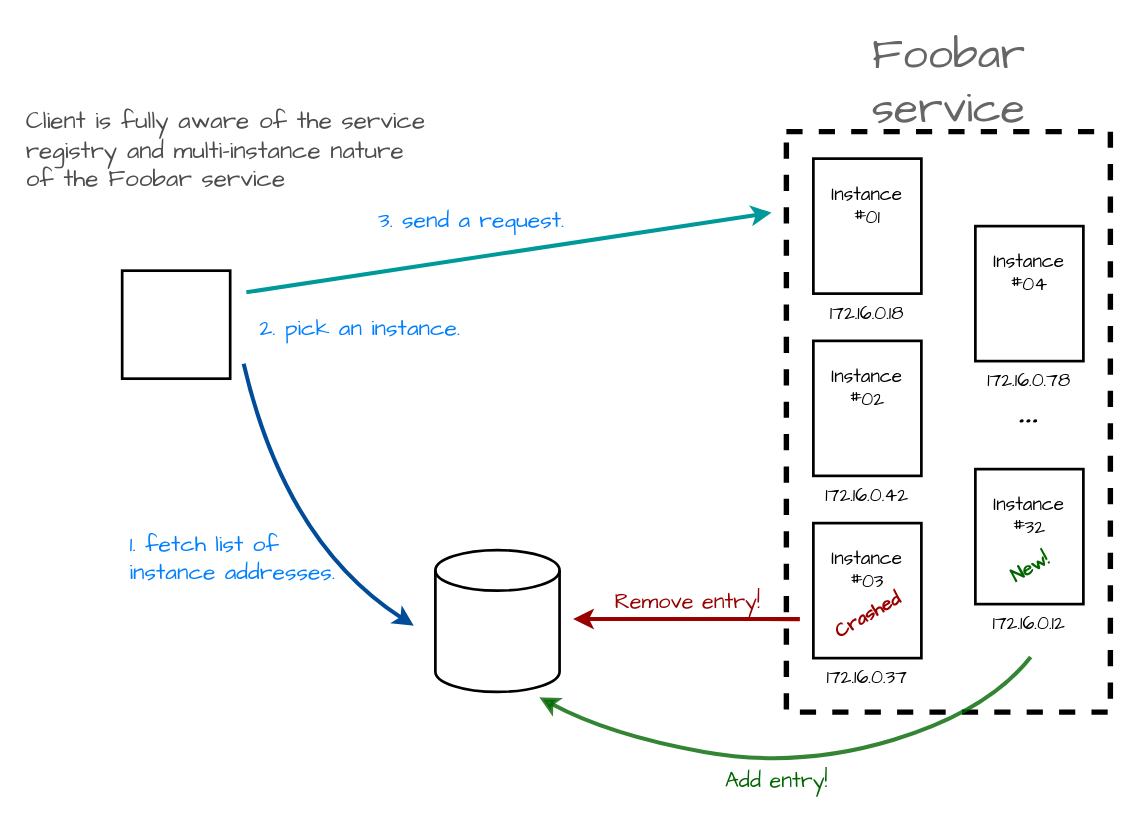
Image size: 1135x825. Some labels were removed from this diagram. Here are the shapes that lost their labels. From the top down, the centre of each, then its label:
point (175, 324): Client
point (496, 620): Service Registry
